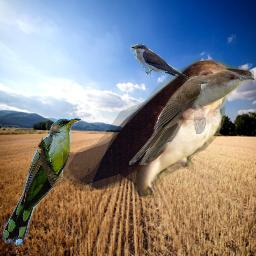Cuckoo: (63, 59, 254, 198), (129, 70, 255, 165), (3, 118, 81, 245), (130, 44, 198, 85)
